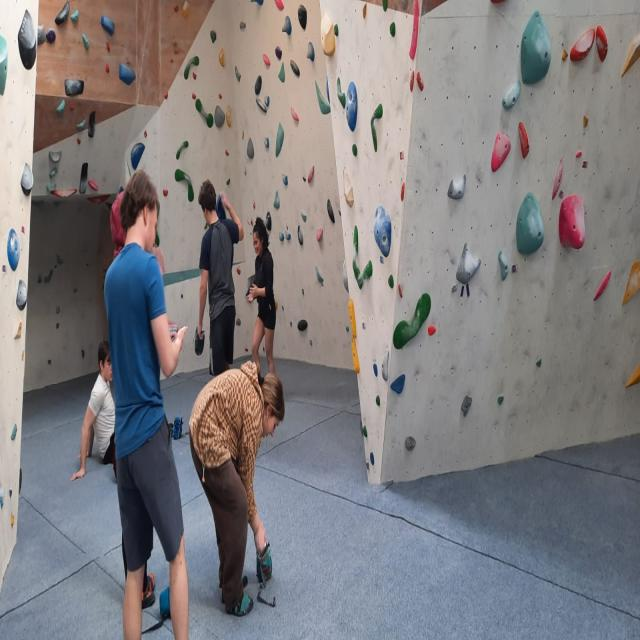Crimp: (592, 267, 614, 307), (408, 67, 426, 94), (12, 318, 23, 346), (399, 181, 408, 208), (395, 282, 404, 302), (274, 0, 285, 11)
Jug: (456, 244, 486, 288), (370, 102, 387, 157), (173, 168, 196, 208), (444, 176, 469, 205), (195, 98, 214, 134), (182, 52, 201, 85), (94, 11, 118, 34), (176, 137, 190, 163), (207, 22, 218, 45)
Pinch: (567, 21, 611, 66), (548, 149, 566, 203), (501, 78, 526, 113), (496, 246, 512, 284), (305, 162, 317, 182), (262, 50, 273, 70), (315, 225, 324, 243), (290, 107, 300, 121)
Pocket: (372, 204, 396, 266), (344, 78, 362, 136), (5, 225, 23, 274)
Sloper: (518, 5, 553, 91), (514, 189, 547, 262), (557, 191, 587, 256), (16, 5, 40, 74), (488, 127, 512, 177), (621, 256, 640, 311), (320, 20, 341, 60), (314, 79, 332, 119), (516, 119, 532, 163), (128, 138, 147, 175), (20, 158, 36, 200), (271, 121, 286, 160), (14, 275, 28, 314), (0, 32, 8, 99), (118, 58, 137, 86), (63, 75, 87, 97), (389, 372, 409, 396), (54, 0, 71, 28), (78, 158, 90, 197), (86, 107, 98, 141), (247, 136, 255, 162), (49, 166, 60, 182), (277, 62, 285, 84)
